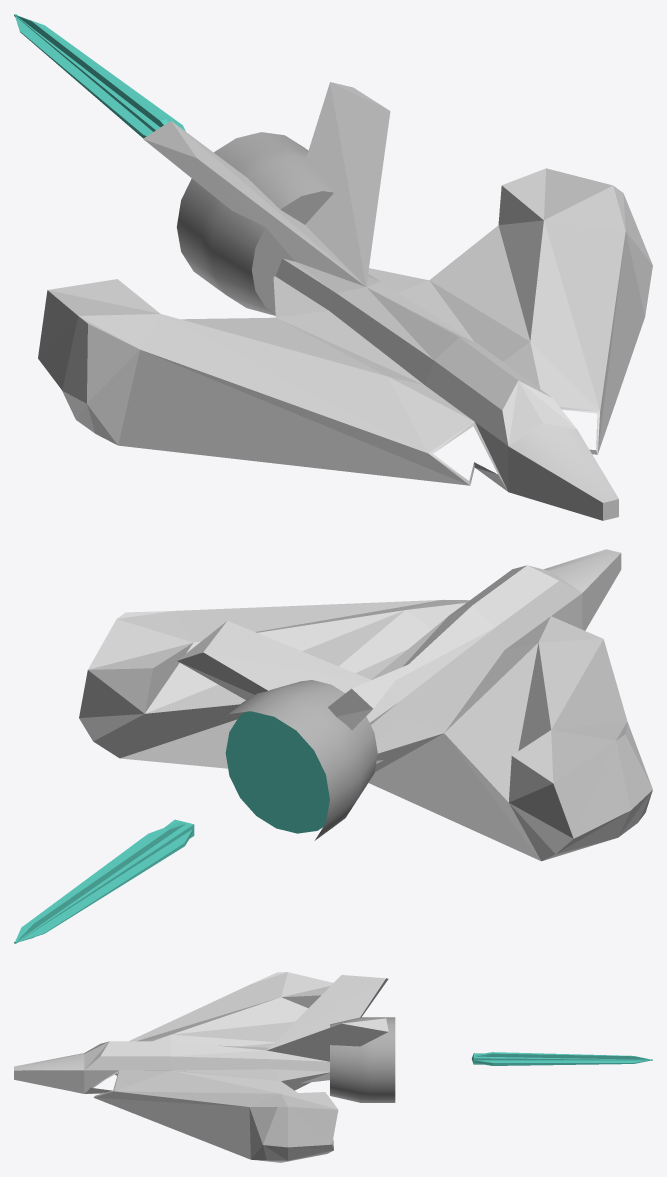
File: spaceship.glb
3 renders of one model, top to bottom at view 1: azimuth 30°, elevation 25°; view 2: azimuth 150°, elevation 25°; view 3: azimuth 270°, elevation 25°, orthographic. The views are drawn at different scales.
Parts seen in each view (by area): view 1: Box005, Cylinder001, Bone001; view 2: Box005, Cylinder002, Cylinder001, Bone001; view 3: Box005, Cylinder001, Bone001.
Boxes of the visible parts, left/top/right/bottom form: Box005: left=38, top=82, right=652, bottom=520; Cylinder001: left=176, top=132, right=333, bottom=315; Bone001: left=14, top=14, right=185, bottom=138; Box005: left=79, top=549, right=652, bottom=861; Cylinder002: left=225, top=711, right=329, bottom=833; Cylinder001: left=214, top=680, right=377, bottom=840; Bone001: left=14, top=819, right=194, bottom=943; Box005: left=14, top=972, right=388, bottom=1162; Cylinder001: left=330, top=1017, right=395, bottom=1102; Bone001: left=472, top=1052, right=652, bottom=1065.
Size of the model in its own units: 11.04 by 3.75 by 20.86.
